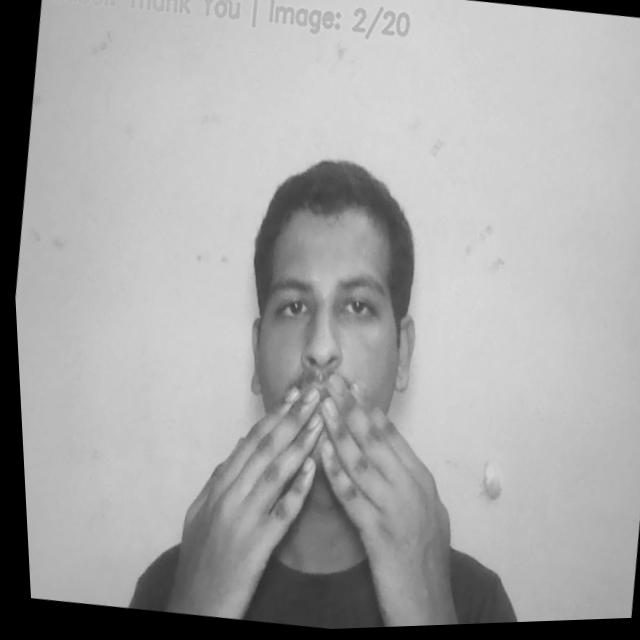Thank You: (147, 350, 485, 636)
